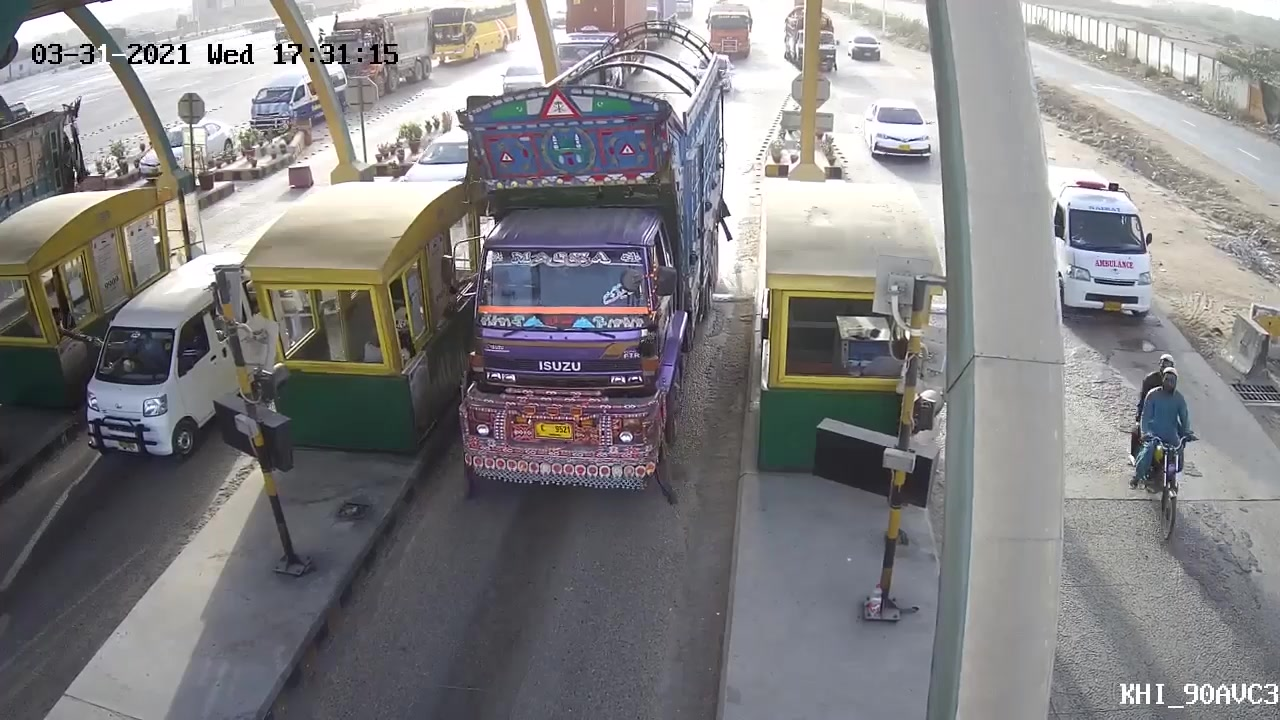F5: (450, 31, 738, 496)
